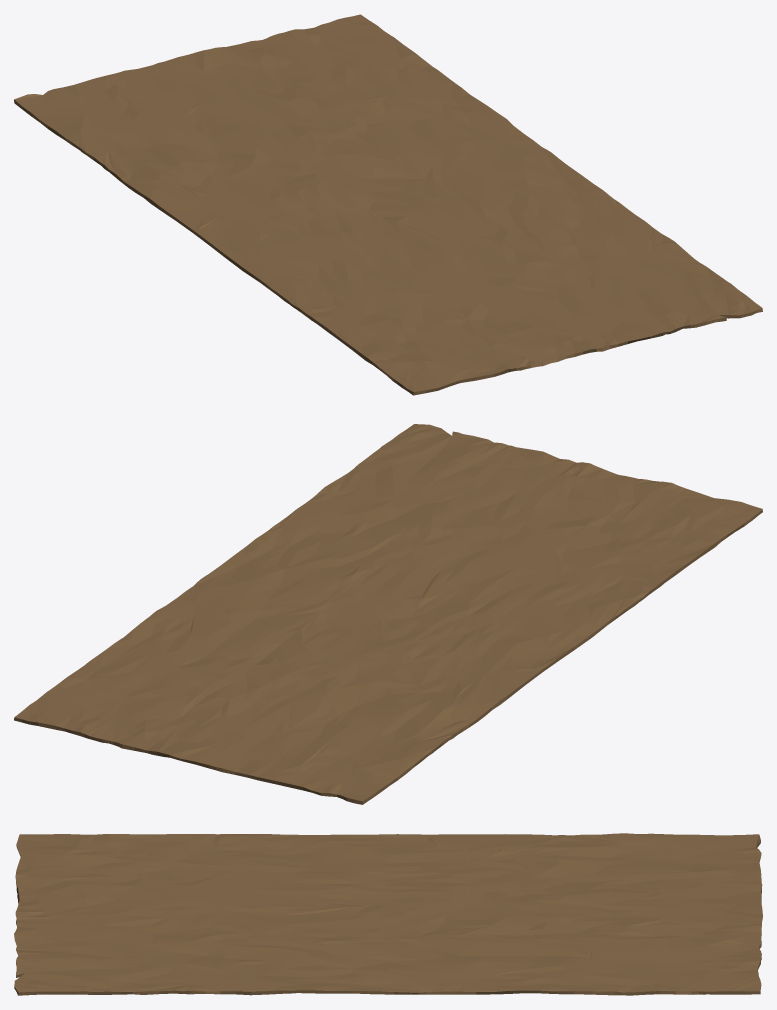
File: SM_PLYWOOD_SHEET_03.glb
3 views of the same model, one above another, from view 1: azimuth 30°, elevation 25°; view 2: azimuth 150°, elevation 25°; view 3: azimuth 270°, elevation 25° (orthographic). The views are drawn at different scales.
Parts seen in each view (by area): view 1: SM_PLYWOOD_SHEET_03; view 2: SM_PLYWOOD_SHEET_03; view 3: SM_PLYWOOD_SHEET_03.
Part boxes in pixels (x1,y1,x2,y2): SM_PLYWOOD_SHEET_03: (14, 14, 762, 395); SM_PLYWOOD_SHEET_03: (14, 424, 762, 804); SM_PLYWOOD_SHEET_03: (14, 833, 762, 995).
Bounding box in the file's own units: 1 × 0.0177 × 2.
Materials: 1 (1 with a texture image).
